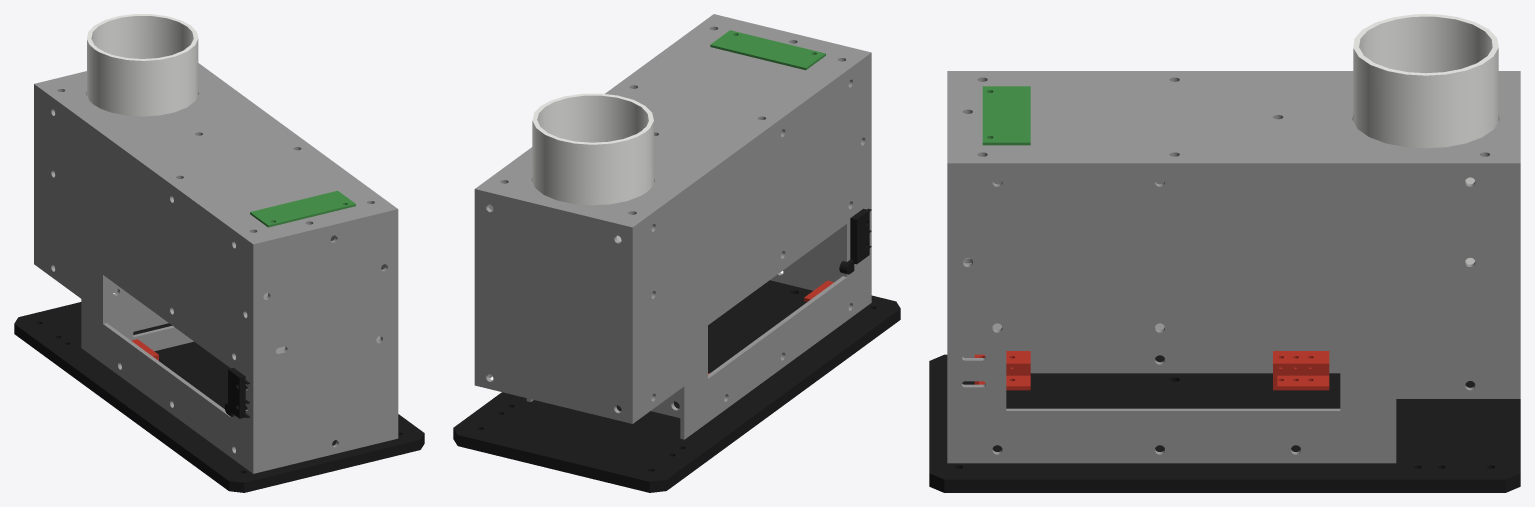
Rendered from M1_Body.glb.
3 views of the same model, side by side, from view 1: azimuth 30°, elevation 25°; view 2: azimuth 150°, elevation 25°; view 3: azimuth 270°, elevation 25° (orthographic). The views are drawn at different scales.
Parts seen in each view (by area): view 1: M1_Body; view 2: M1_Body; view 3: M1_Body.
Part boxes in pixels (x1=…): M1_Body: x1=14, y1=14, x2=424, y2=492; M1_Body: x1=453, y1=14, x2=900, y2=492; M1_Body: x1=929, y1=14, x2=1520, y2=492.
Size of the model in its own units: 0.1 by 0.144 by 0.2.
